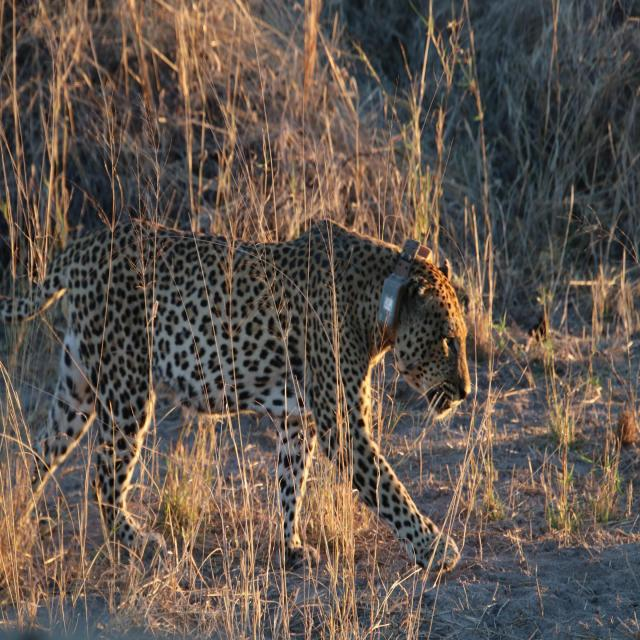Leopard: (0, 221, 473, 575)
